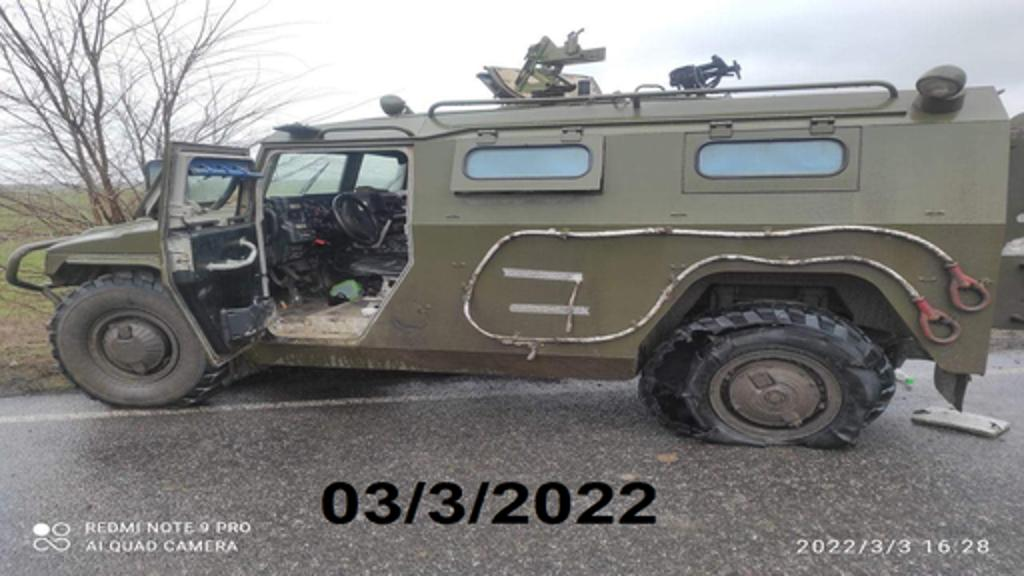CAR: (12, 72, 996, 454)
